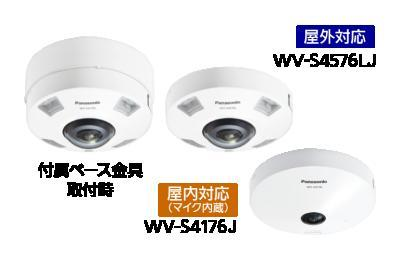maru: (24, 37, 153, 153)
